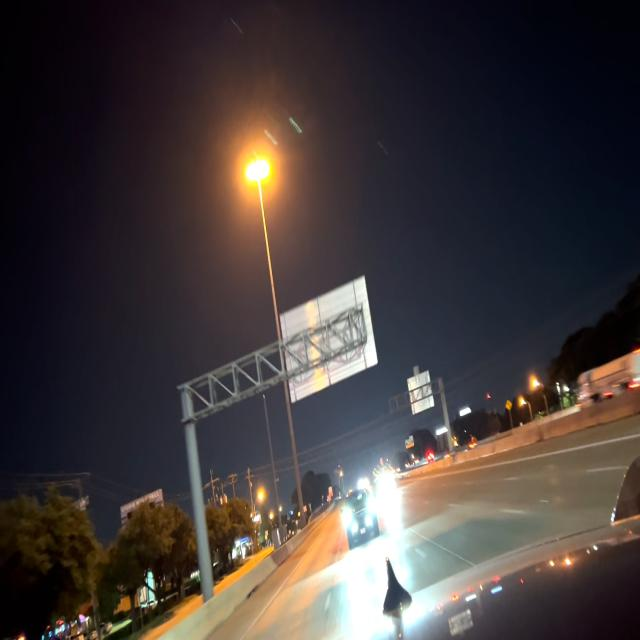back-of-sign: (280, 277, 379, 404), (409, 365, 433, 414)
